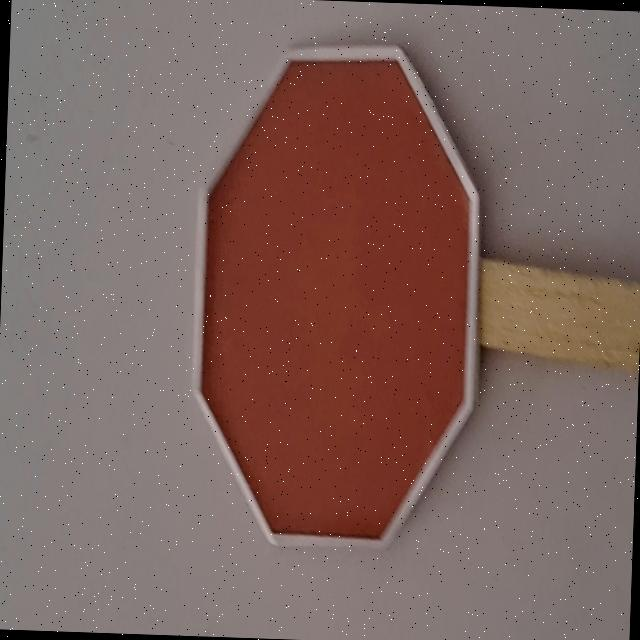Stop: (180, 37, 487, 569)
